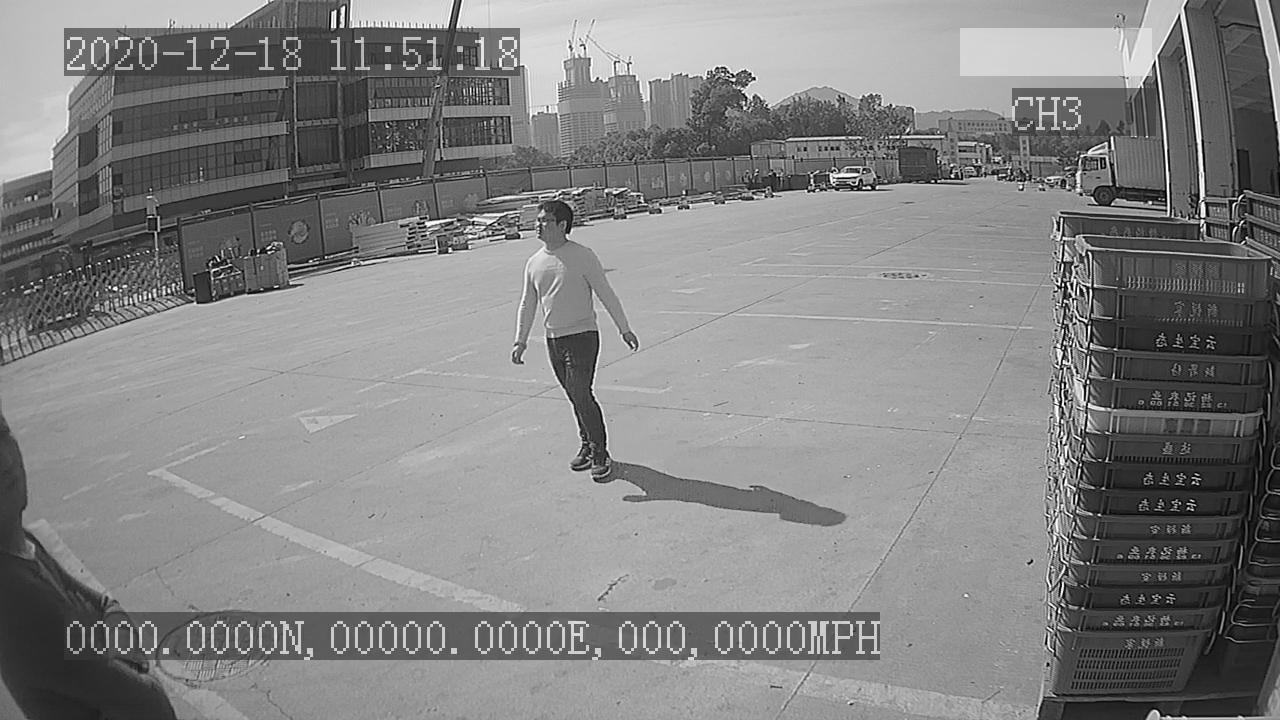person: (502, 194, 651, 490)
